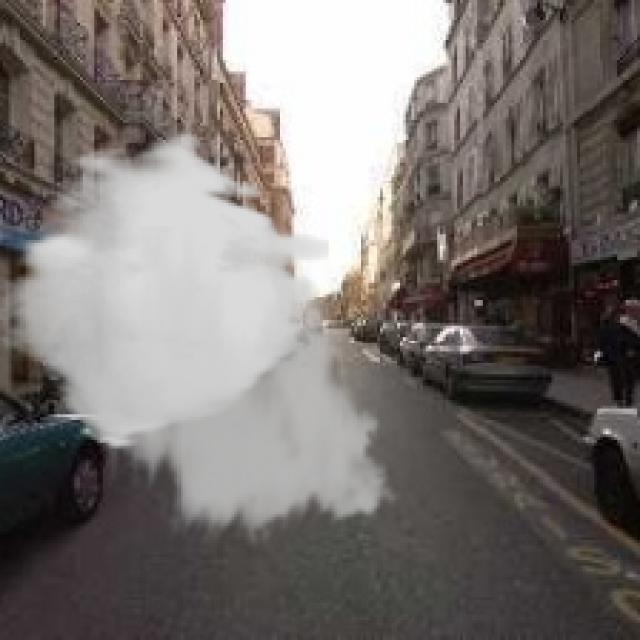Smoke: (0, 131, 406, 546)
